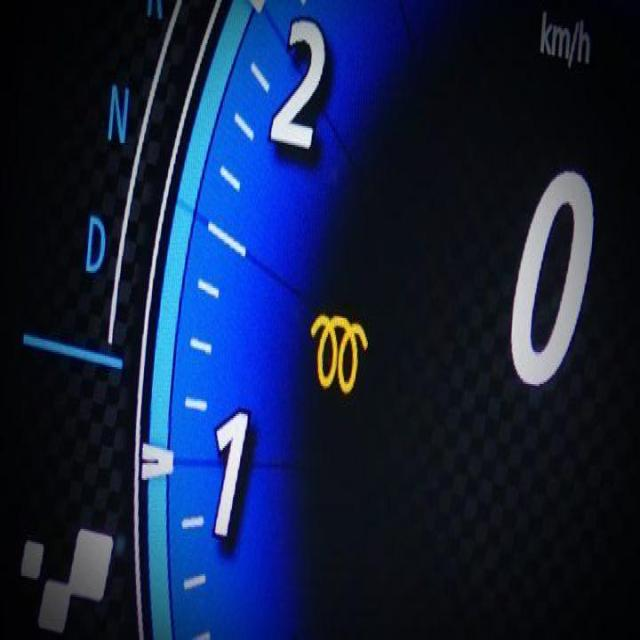kontrolka: (298, 274, 376, 402)
